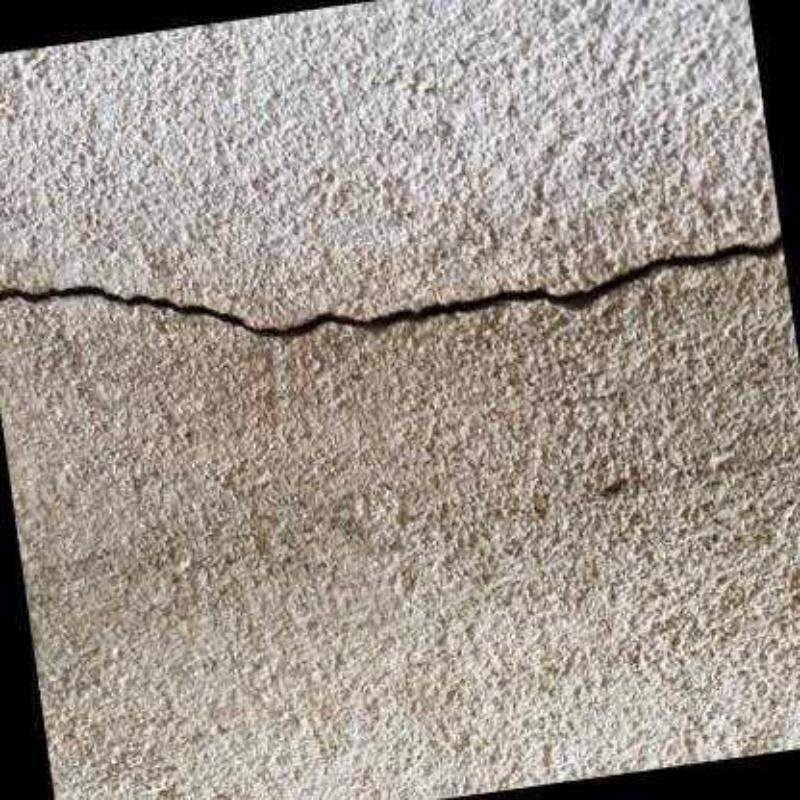pothole: (0, 233, 783, 339)
